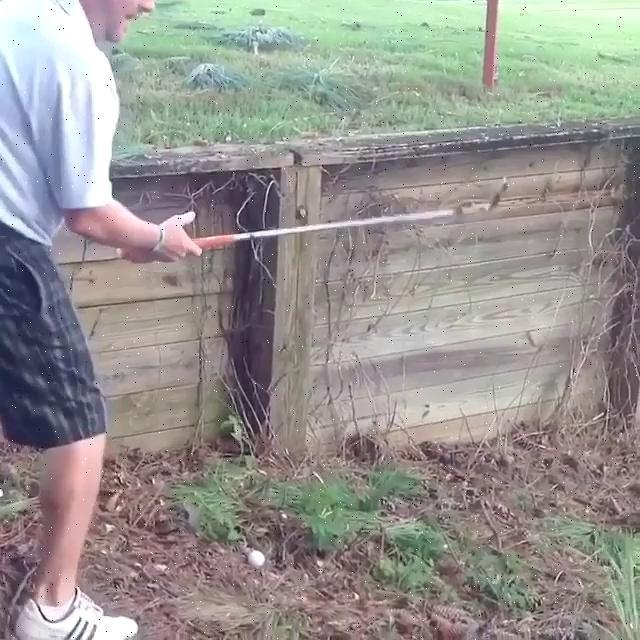golf ball: (247, 550, 266, 568)
golf club-handle: (119, 178, 510, 261)
golf club-head: (484, 177, 510, 216)
